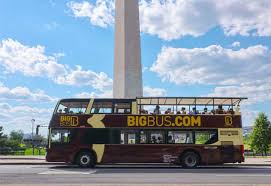bus: (43, 95, 249, 170)
